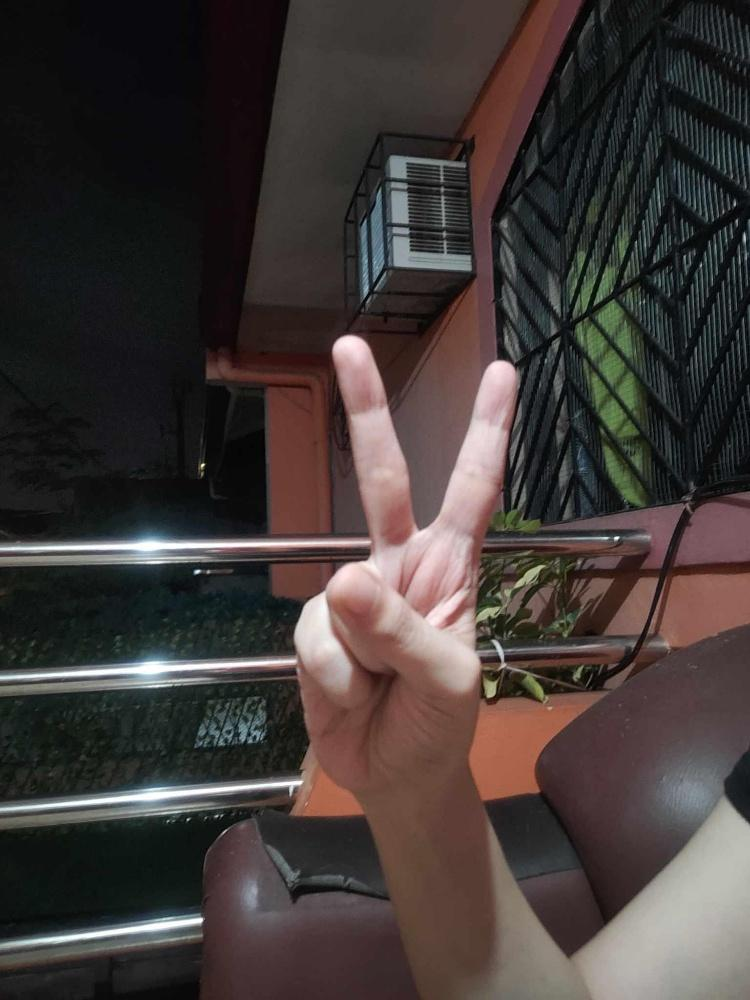v: (291, 332, 517, 790)
